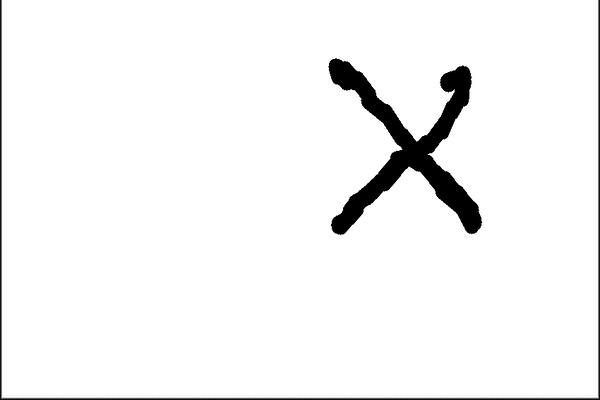X: (309, 46, 503, 249)
